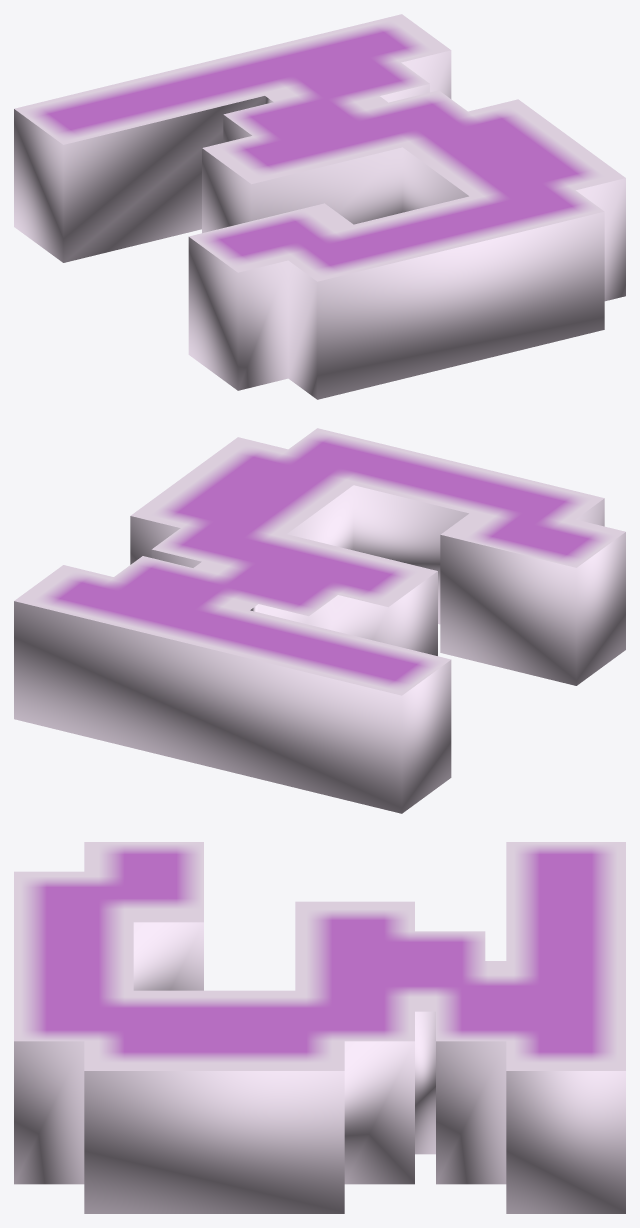
3 renders of one model, top to bottom at view 1: azimuth 30°, elevation 25°; view 2: azimuth 150°, elevation 25°; view 3: azimuth 270°, elevation 25°, orthographic. The views are drawn at different scales.
Visible parts, largest first — view 1: Numero.004; view 2: Numero.004; view 3: Numero.004.
Boxes of the visible parts, x1,y1,x2,y2 form: Numero.004: [14, 14, 625, 399]; Numero.004: [14, 428, 625, 813]; Numero.004: [14, 842, 625, 1213].
Size of the model in its own units: 54.99 by 16 by 62.13.
